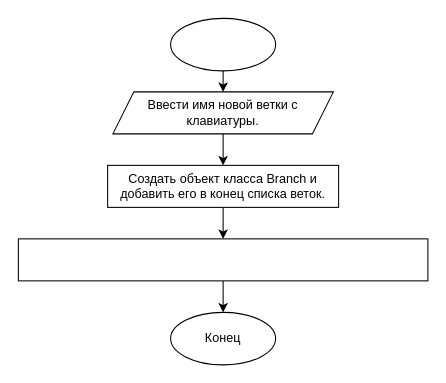
The diagram is 446 pixels wide and 383 high, and some of its shapes have lost their labels. Each missing label, with the centre of its shape:
Начало: the point at 223,44
Создать файл, соответствующий новой ветке.: the point at 222,259
